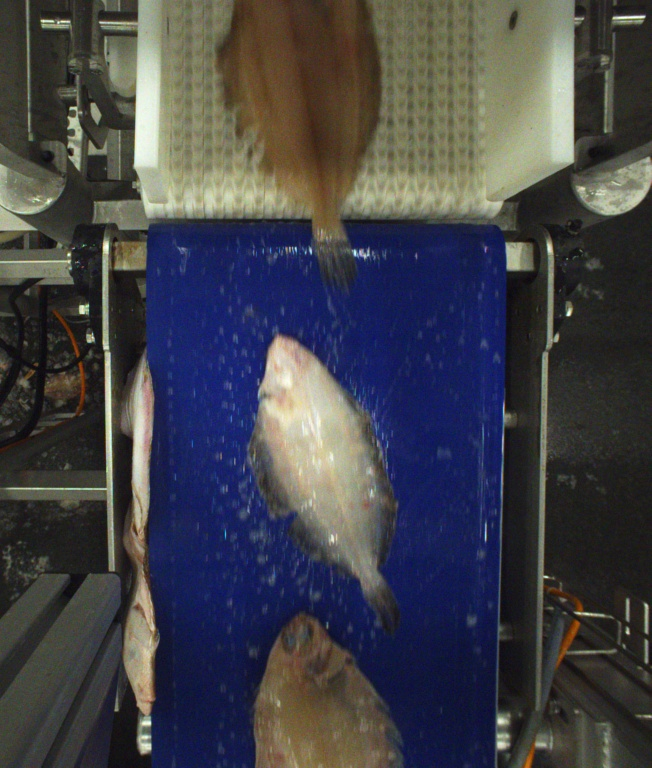WIT: (251, 333, 406, 647)
